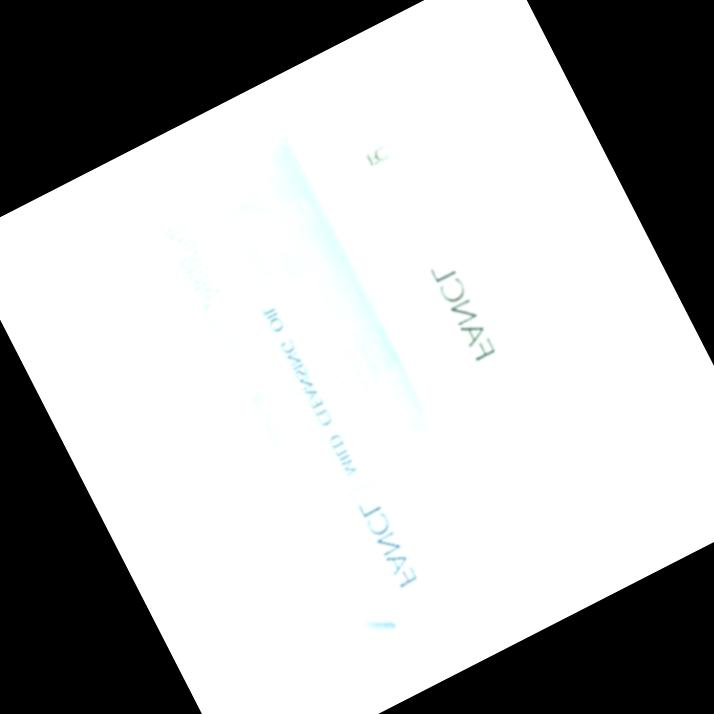cosmetic: (296, 76, 627, 547)
